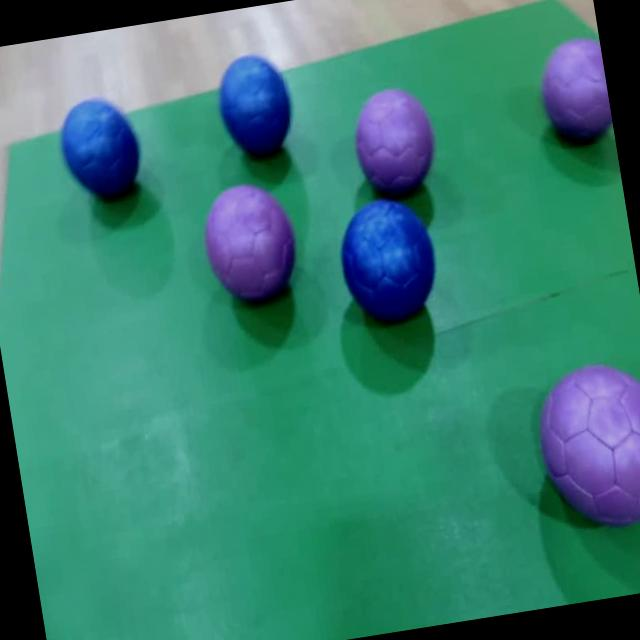blue_ball: (333, 192, 443, 325), (56, 90, 148, 204), (212, 45, 296, 154)
purple_ball: (533, 356, 640, 535), (200, 177, 304, 305), (348, 85, 441, 198), (534, 35, 614, 146)
